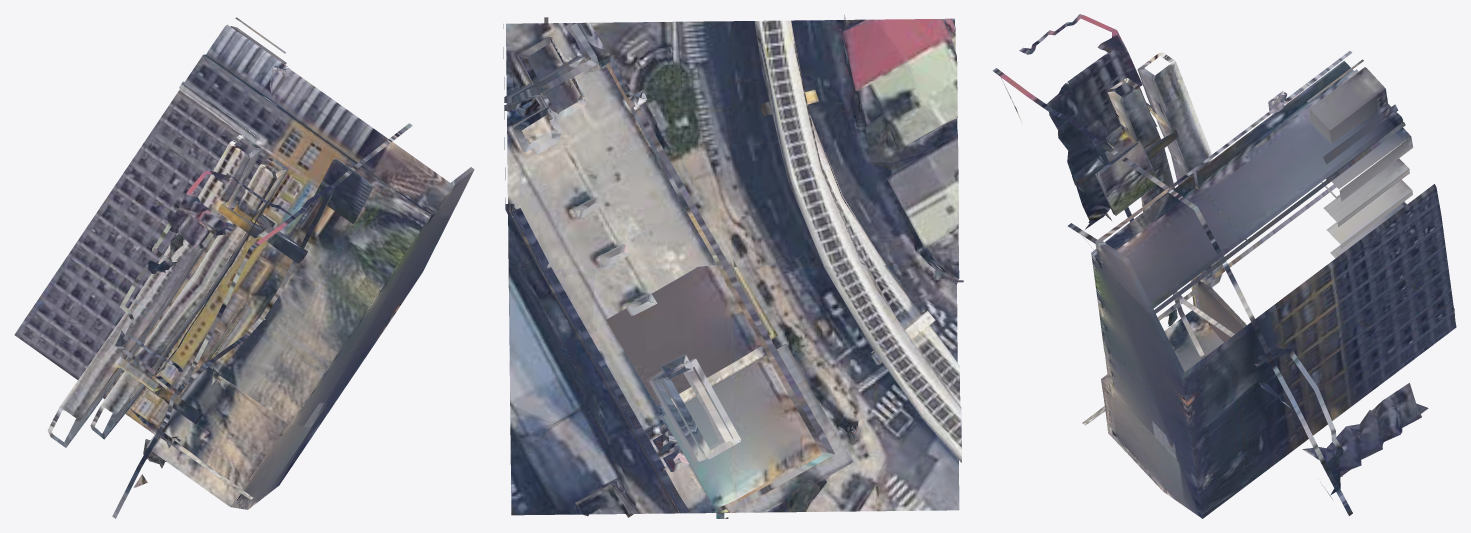
The picture shows the model from 3 angles, left to right: view 1: azimuth 30°, elevation 25°; view 2: azimuth 150°, elevation 25°; view 3: azimuth 270°, elevation 25°; orthographic projection. The views are drawn at different scales.
Size of the model in its own units: 92.12 by 94.75 by 83.4.
Materials: 1 (1 with a texture image).
